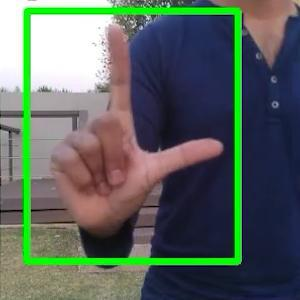land_hand: (37, 12, 233, 245)
